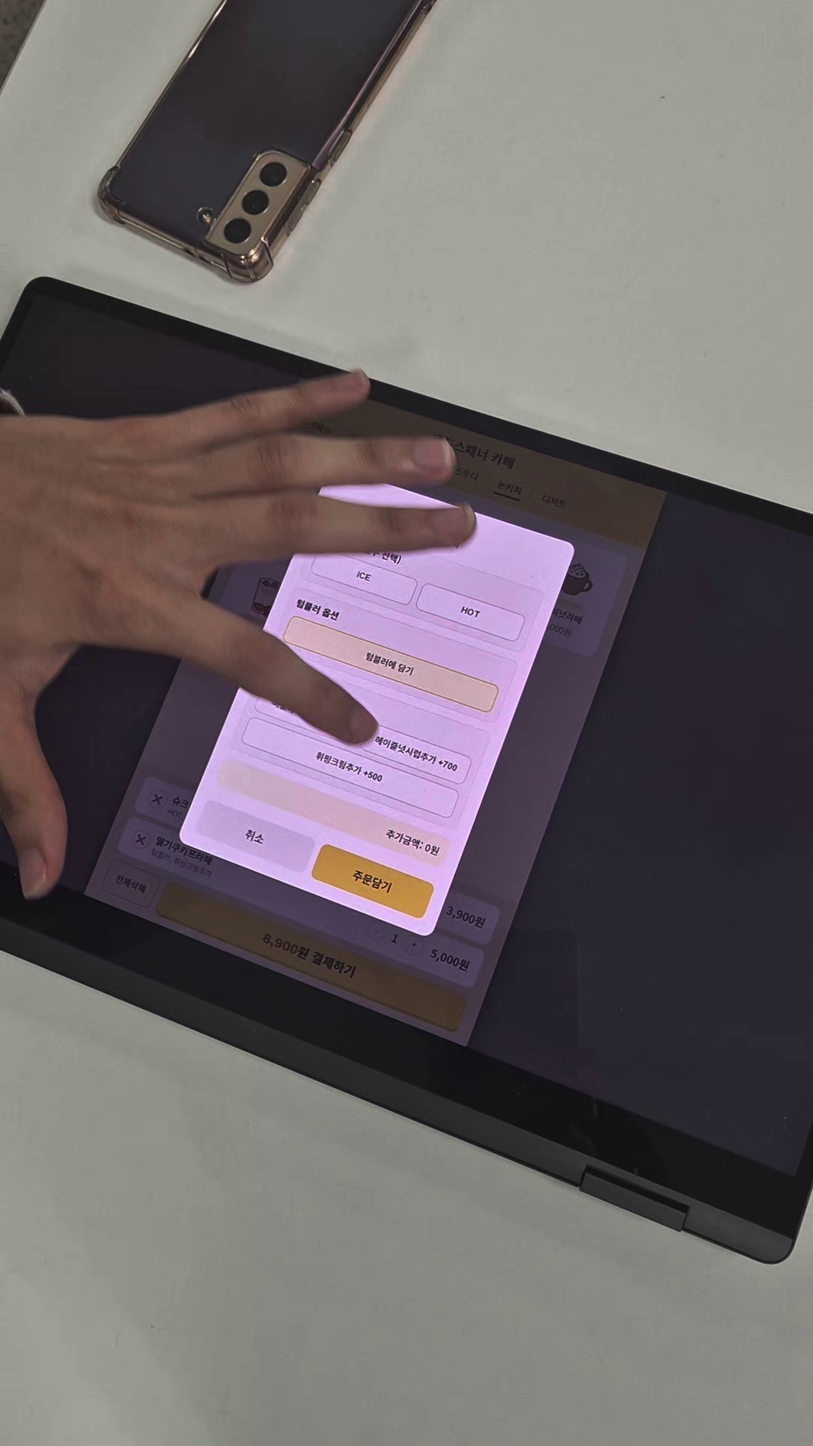action_button: (308, 842, 436, 920), (193, 798, 318, 874)
option_button: (238, 714, 461, 822), (280, 611, 501, 716), (414, 582, 526, 644), (310, 546, 418, 607), (364, 722, 467, 784)
popup_modal: (172, 457, 580, 944)
